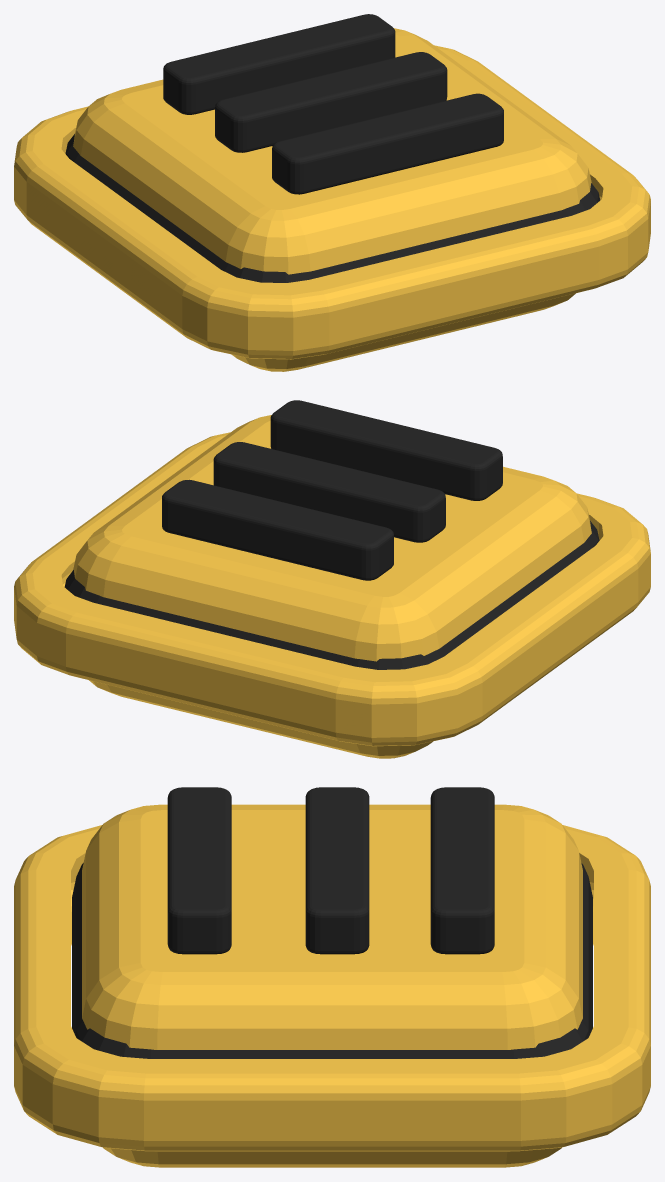
The model's file is Button_Menu.fbx.
The picture shows the model from 3 angles, top to bottom: view 1: azimuth 30°, elevation 25°; view 2: azimuth 150°, elevation 25°; view 3: azimuth 270°, elevation 25°; orthographic projection. The views are drawn at different scales.
Visible parts, largest first — view 1: Cube_12, Cube, Cube_1, Cube_4, Cube_5, Cube_10; view 2: Cube_12, Cube, Cube_5, Cube_1, Cube_4, Cube_10; view 3: Cube, Cube_12, Cube_5, Cube_4, Cube_1, Cube_10.
Part boxes in pixels (x1,y1,x2,y2): Cube_12: (14,45,650,359); Cube: (73,28,591,371); Cube_1: (272,93,503,194); Cube_4: (215,52,447,152); Cube_5: (163,14,395,114); Cube_10: (65,134,600,282); Cube_12: (14,432,650,746); Cube: (73,415,591,758); Cube_5: (162,479,393,580); Cube_1: (270,400,502,500); Cube_4: (213,442,445,542); Cube_10: (64,521,599,669); Cube: (82,804,582,1167); Cube_12: (14,825,650,1151); Cube_5: (430,787,494,954); Cube_4: (305,787,369,954); Cube_1: (167,787,231,954); Cube_10: (72,863,592,1058).
Bounding box in the file's own units: 254 × 103 × 254.
